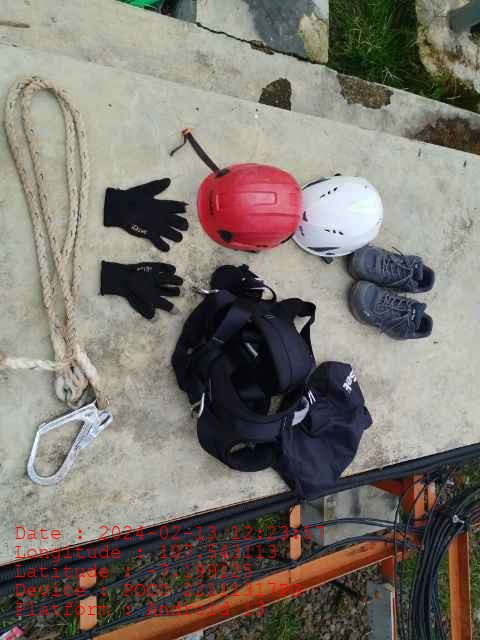HELM: (196, 163, 303, 250), (300, 174, 383, 258)
SARUNG_TANGAN: (102, 177, 187, 252), (101, 260, 185, 323)
SEPATU: (348, 243, 437, 340)
TAMBANG_SLING: (1, 75, 106, 487)
